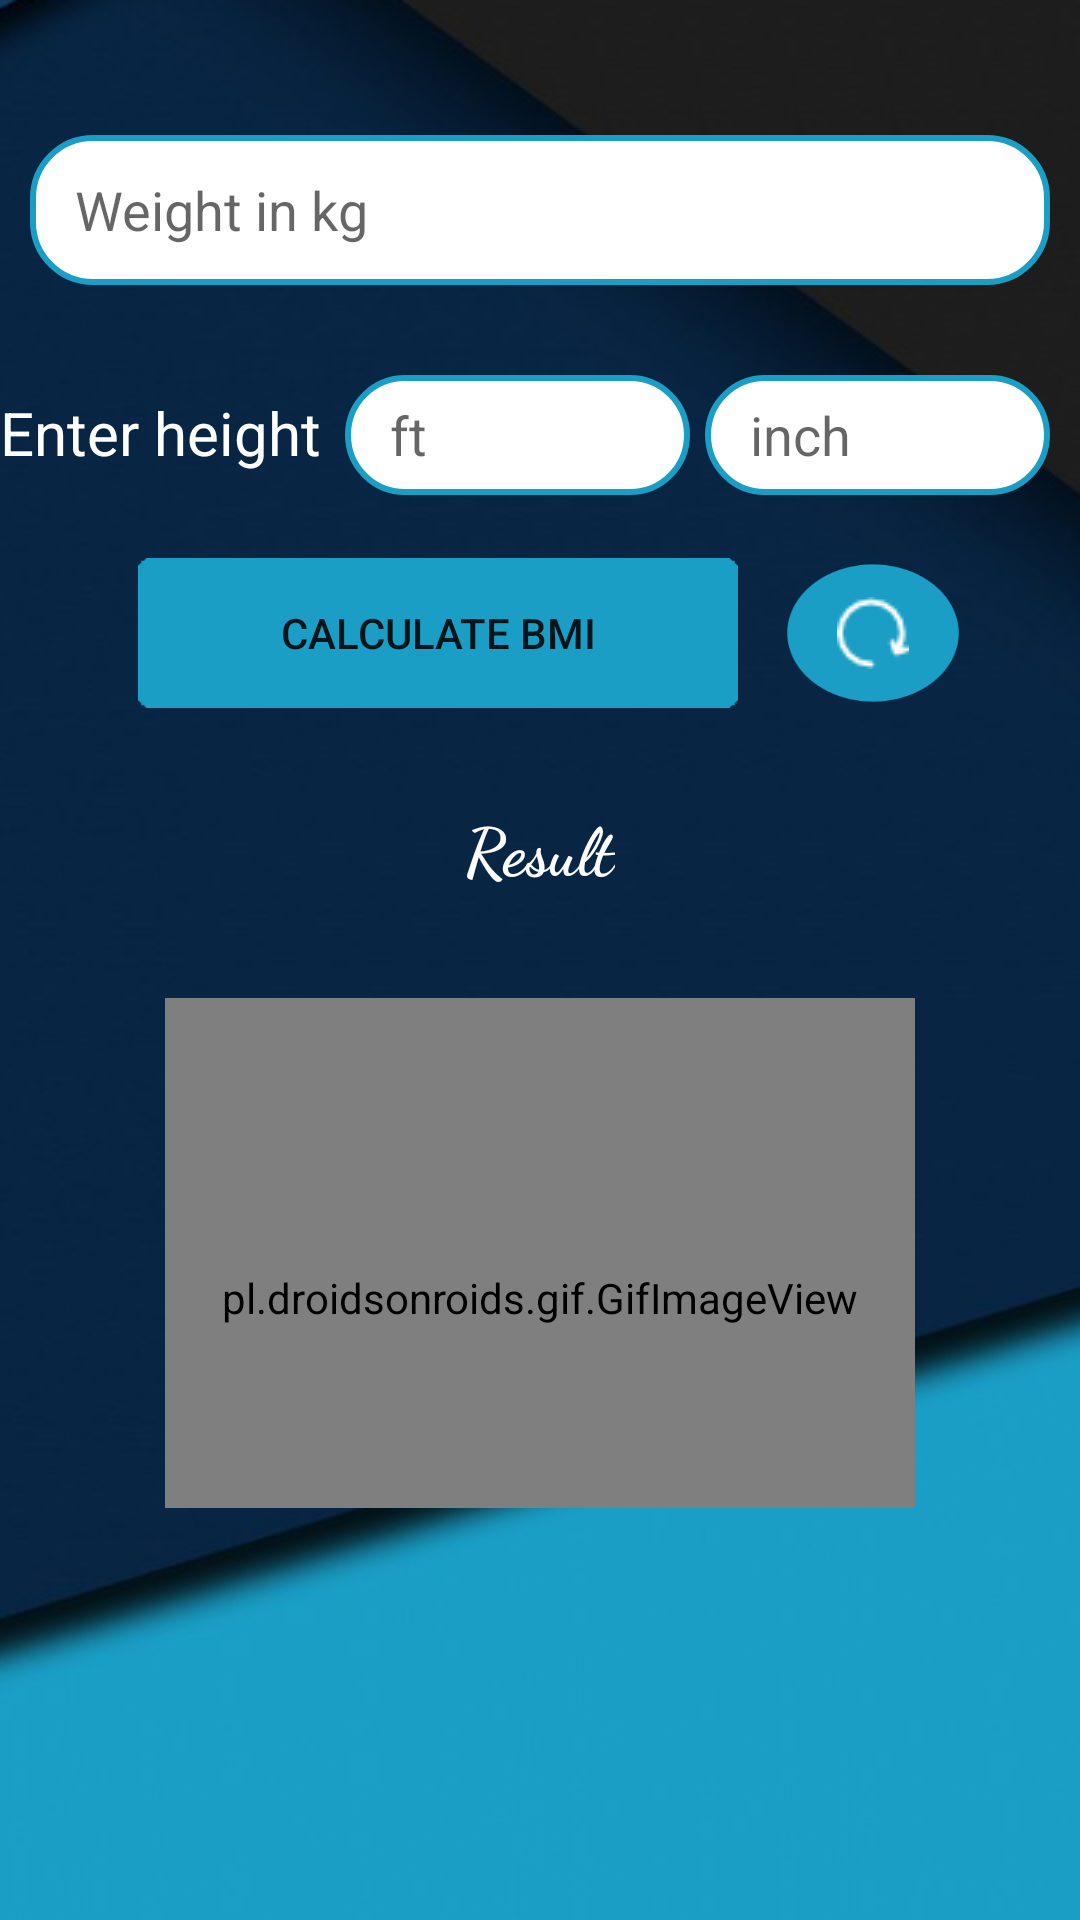

Where to tap for icons on this 1080w x 1920h app screen, as point (x, y):
refresh: point (873, 633)
